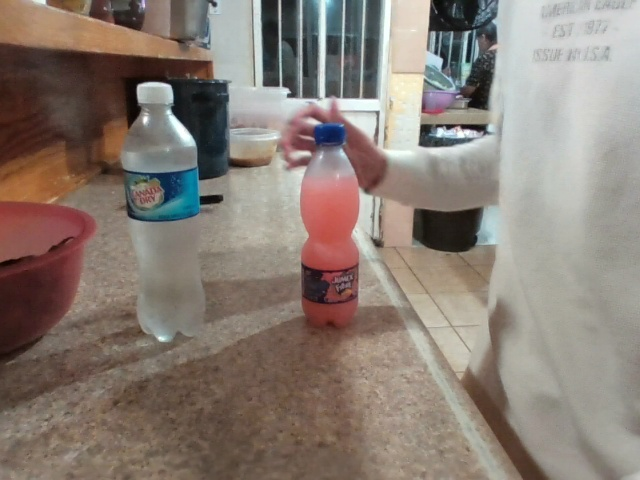botella: (95, 74, 238, 341), (275, 109, 418, 349)
